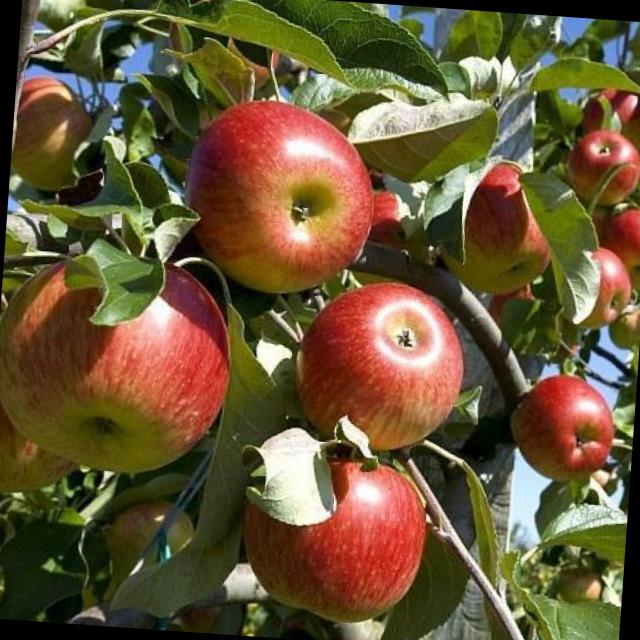apple: (0, 233, 231, 472), (176, 92, 384, 310), (227, 435, 447, 626), (289, 274, 468, 458), (424, 150, 568, 286), (504, 365, 612, 478), (539, 230, 634, 332), (556, 124, 640, 217)
